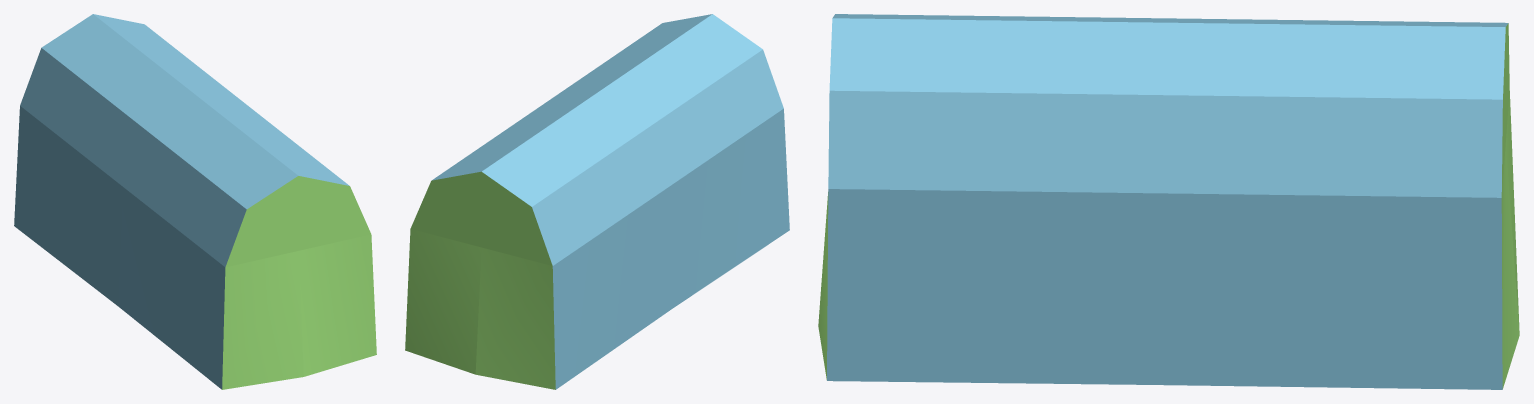
The model's file is brigde.fbx.
3 renders of one model, left to right at view 1: azimuth 30°, elevation 25°; view 2: azimuth 150°, elevation 25°; view 3: azimuth 270°, elevation 25°, orthographic. The views are drawn at different scales.
Visible parts, largest first — view 1: PM3D_Cylinder3D1; view 2: PM3D_Cylinder3D1; view 3: PM3D_Cylinder3D1.
Part boxes in pixels (bbox=[...]): PM3D_Cylinder3D1: bbox=[14, 14, 376, 389]; PM3D_Cylinder3D1: bbox=[405, 14, 789, 389]; PM3D_Cylinder3D1: bbox=[818, 14, 1519, 389].
Size of the model in its own units: 0.7028 by 0.8073 by 1.67.
